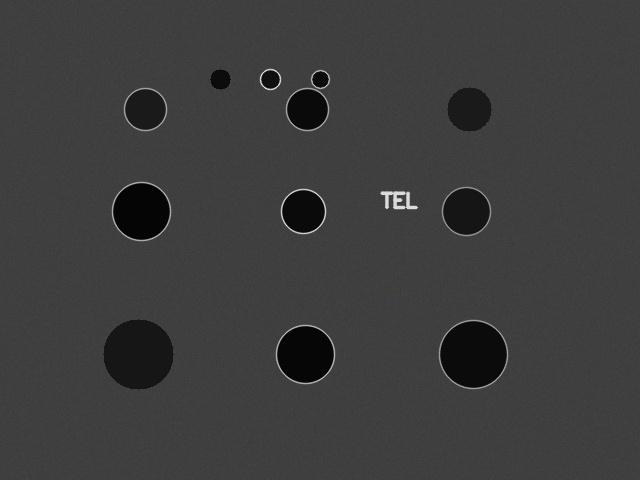hole: (103, 319, 173, 389), (439, 320, 507, 388), (112, 182, 170, 240), (276, 325, 334, 383), (442, 187, 490, 235), (447, 87, 491, 131), (281, 189, 325, 233), (124, 88, 166, 130), (286, 88, 328, 130), (210, 69, 230, 89), (260, 69, 280, 89), (311, 70, 329, 88)
